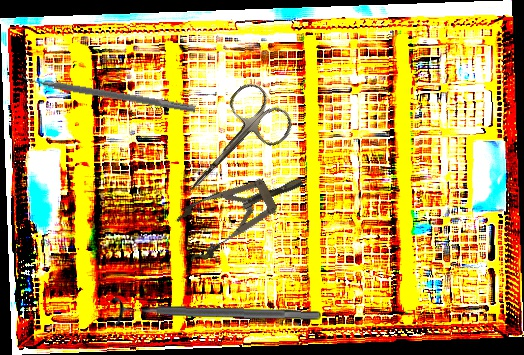Fixation Ring: (108, 296, 322, 332)
Iris Scissors: (161, 76, 300, 217)
Spatula Surgical: (18, 69, 198, 113)
Speculum: (169, 156, 315, 266)
